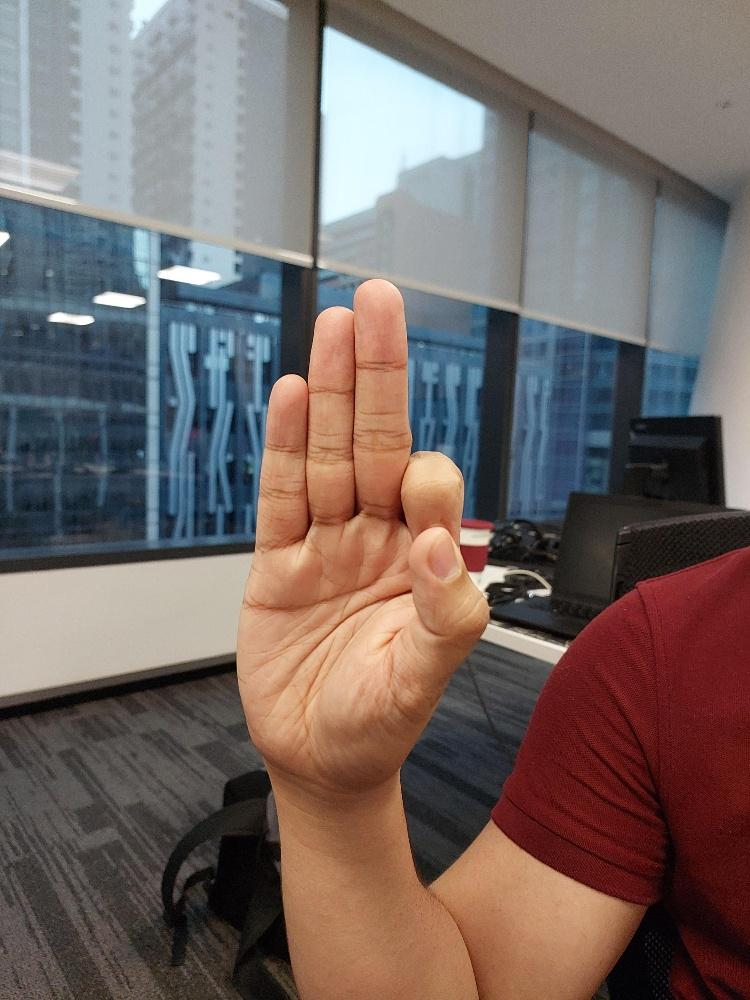f: (231, 273, 495, 799)
